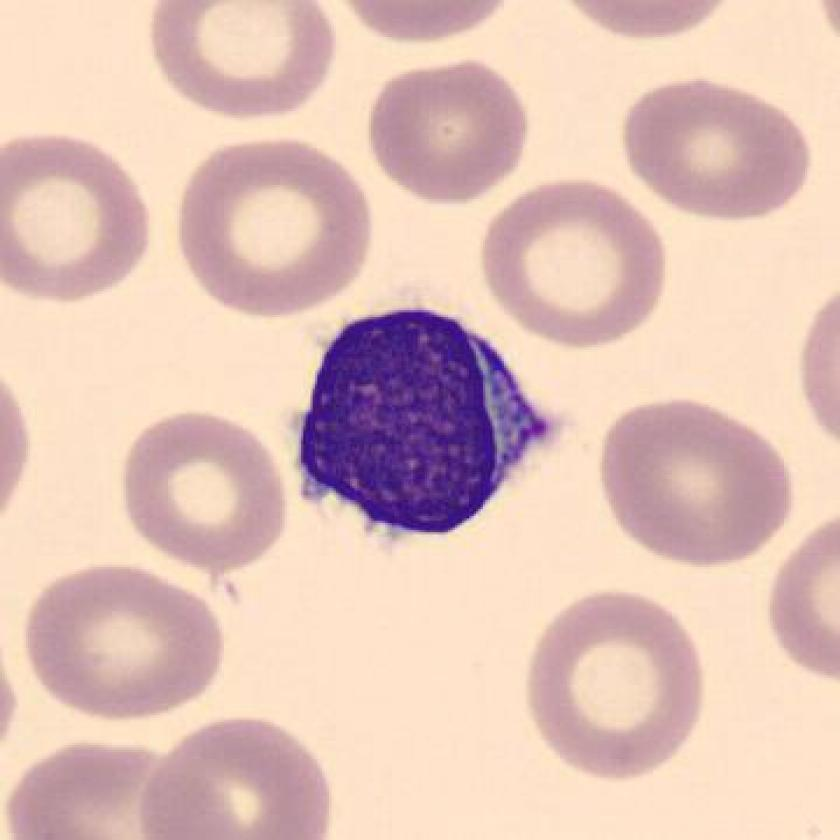lymphocyte: (281, 295, 566, 563)
